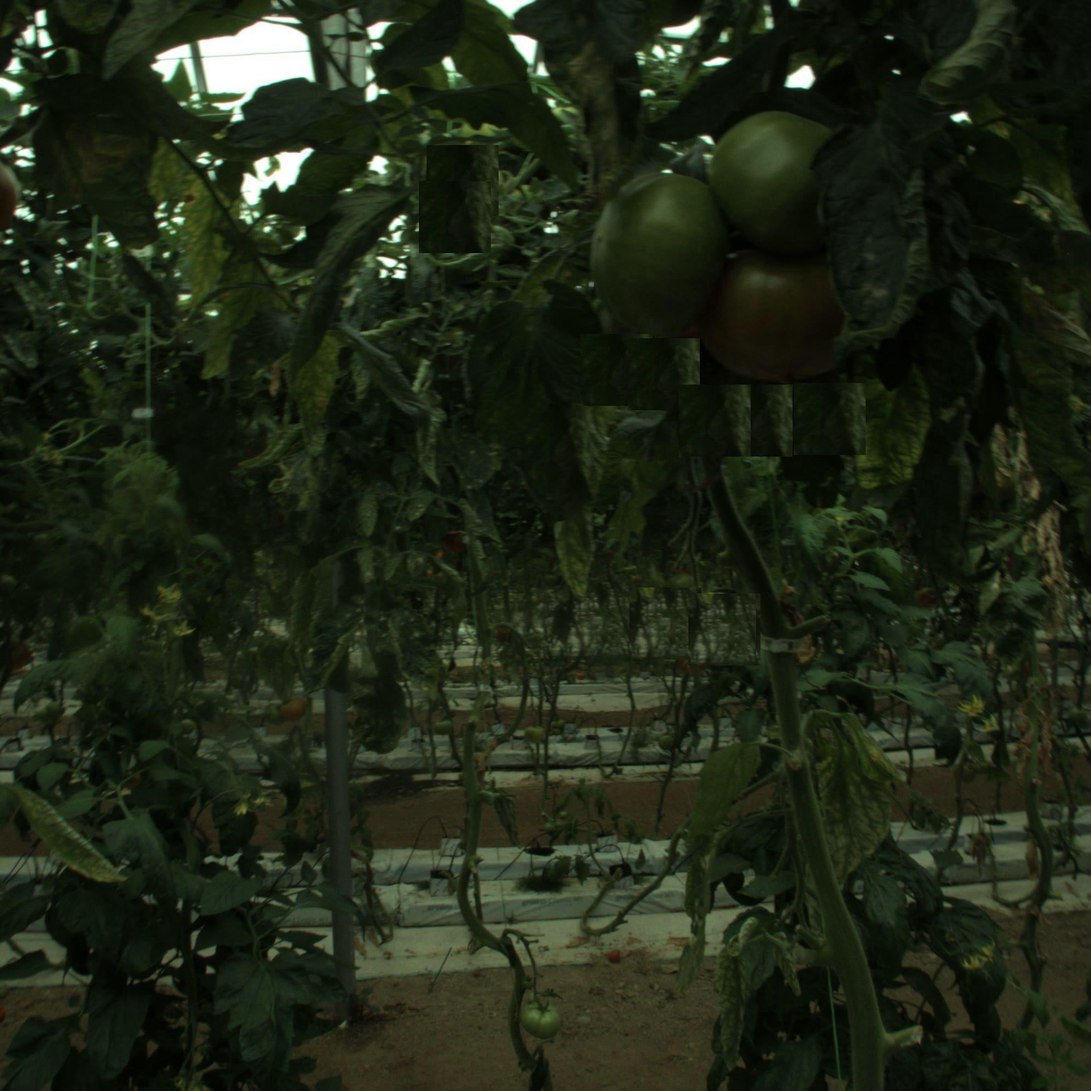['unripe', 'semi-ripe', 'fully-ripe']: (586, 179, 738, 331), (713, 108, 845, 240), (517, 994, 561, 1039)
